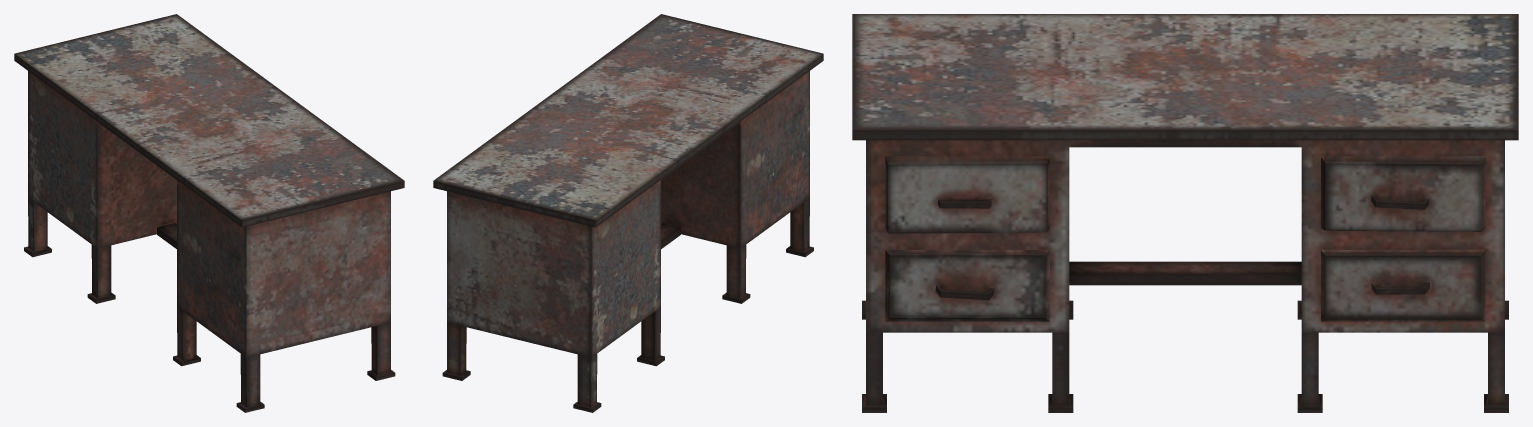
The model's file is OldMetalTable.FBX.
The picture shows the model from 3 angles, left to right: view 1: azimuth 30°, elevation 25°; view 2: azimuth 150°, elevation 25°; view 3: azimuth 270°, elevation 25°; orthographic projection. The views are drawn at different scales.
Visible parts, largest first — view 1: OldMetalTable; view 2: OldMetalTable; view 3: OldMetalTable.
Boxes of the visible parts, bbox=[...] form: OldMetalTable: bbox=[14, 14, 404, 412]; OldMetalTable: bbox=[433, 14, 823, 412]; OldMetalTable: bbox=[852, 14, 1518, 412].
Bounding box in the file's own units: 80.32 × 91.89 × 193.
